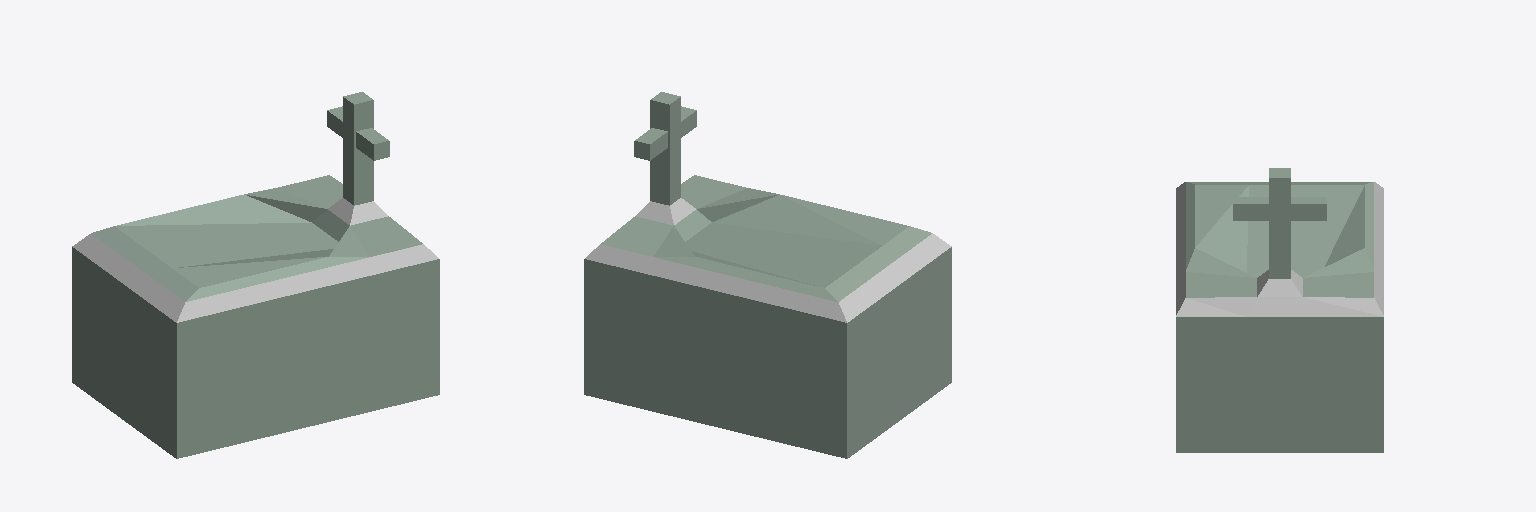
Rendered from tomb1.obj.
3 views of the same model, side by side, from view 1: azimuth 30°, elevation 25°; view 2: azimuth 150°, elevation 25°; view 3: azimuth 270°, elevation 25° (orthographic).
Visible parts, largest first — view 1: Cube.001_Cube.001; view 2: Cube.001_Cube.001; view 3: Cube.001_Cube.001.
Part boxes in pixels (bbox=[...]): Cube.001_Cube.001: bbox=[72, 92, 439, 458]; Cube.001_Cube.001: bbox=[584, 92, 951, 458]; Cube.001_Cube.001: bbox=[1176, 168, 1383, 452].
Size of the model in its own units: 30.16 by 29.1 by 20.71.